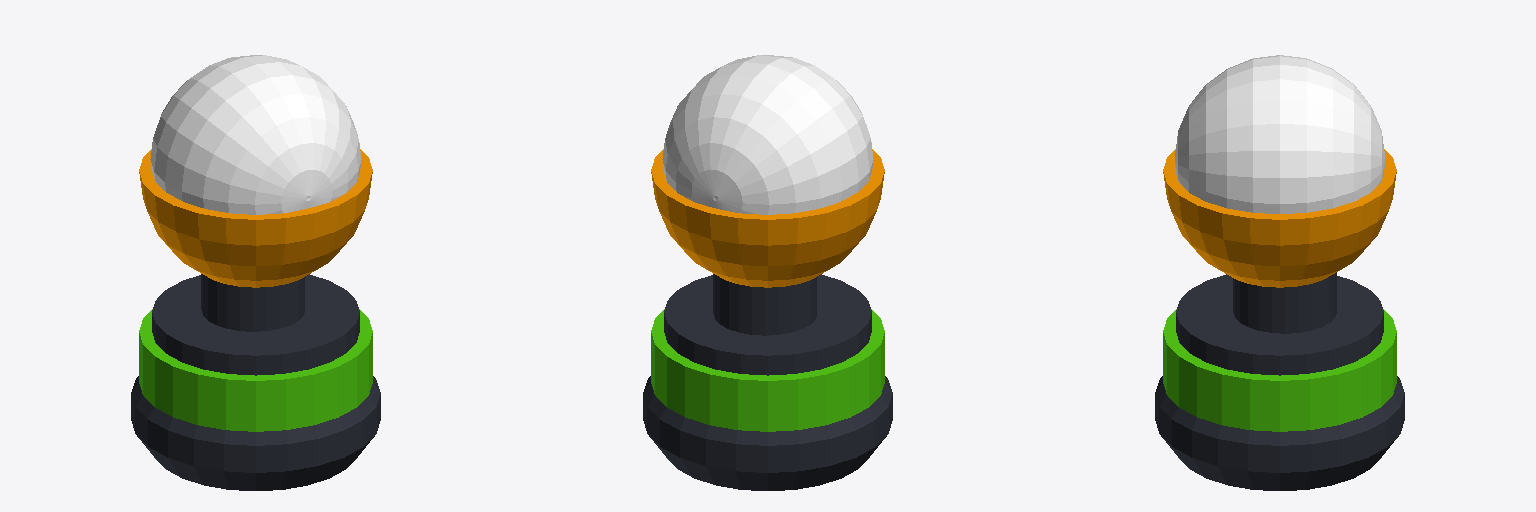
The model's file is tower_deepsea_pearl.obj.
3 renders of one model, left to right at view 1: azimuth 30°, elevation 25°; view 2: azimuth 150°, elevation 25°; view 3: azimuth 270°, elevation 25°, orthographic.
Parts seen in each view (by area): view 1: mergedBlocks; view 2: mergedBlocks; view 3: mergedBlocks.
Part boxes in pixels (x1,y1,x2,y2): mergedBlocks: (131, 55, 380, 490); mergedBlocks: (643, 55, 892, 490); mergedBlocks: (1155, 55, 1404, 490).
Size of the model in its own units: 0.96 by 1.63 by 0.96.